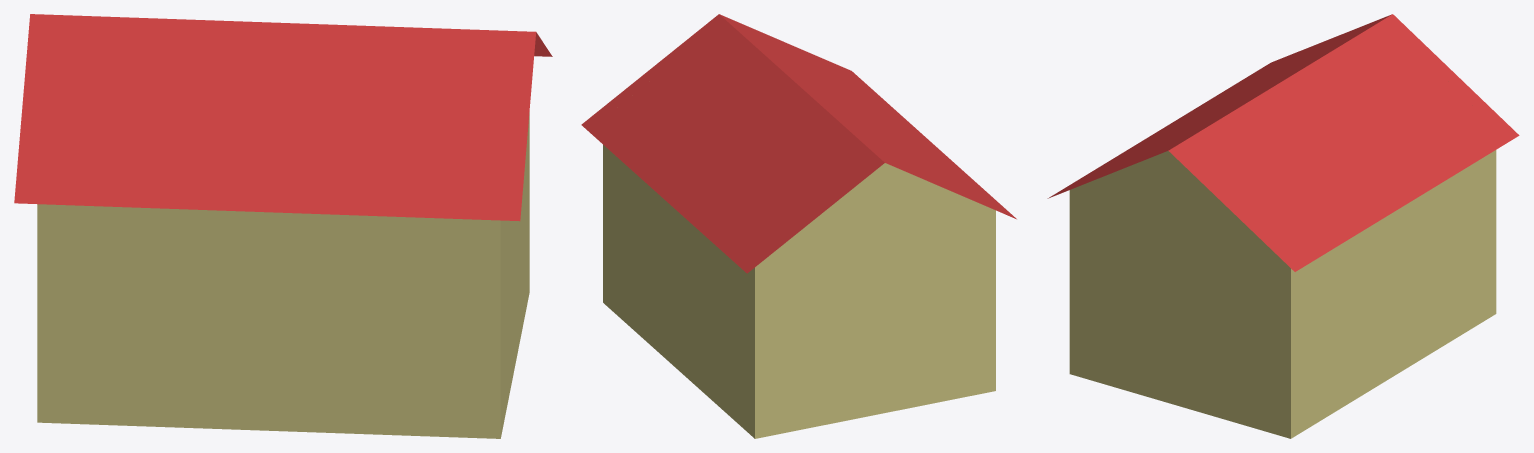
3 views of the same model, side by side, from view 1: azimuth 30°, elevation 25°; view 2: azimuth 150°, elevation 25°; view 3: azimuth 270°, elevation 25° (orthographic). The views are drawn at different scales.
Bounding box in the file's own units: 22.4 × 21.37 × 13.
